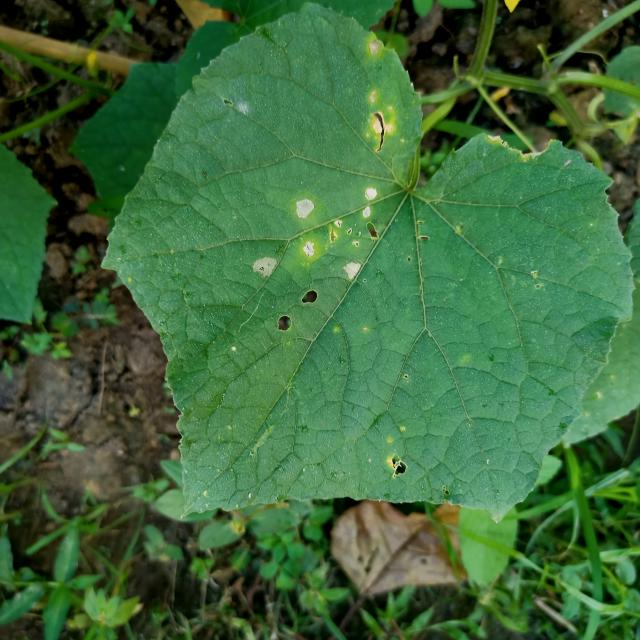disease_cucumber: (245, 178, 400, 296)
